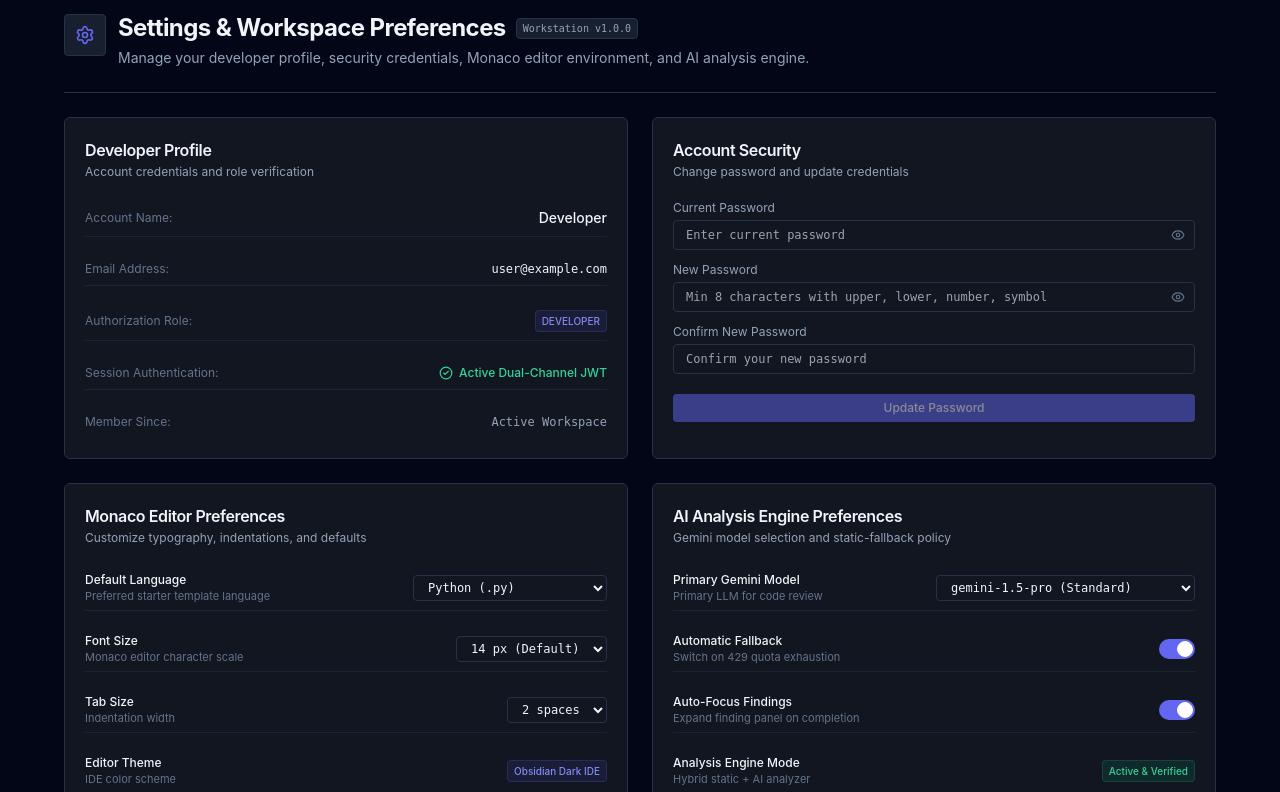
Scenario: Phase 7: Settings Page Functional Tests › submits password change and shows success banner
Expected: the heading "Account Security" is shown, [673,140,801,160]
Type "CurrentPass1!" into the password field with placeholder "Enter current password".
click(934, 235); type("CurrentPass1!")  # box [673,220,1195,250]
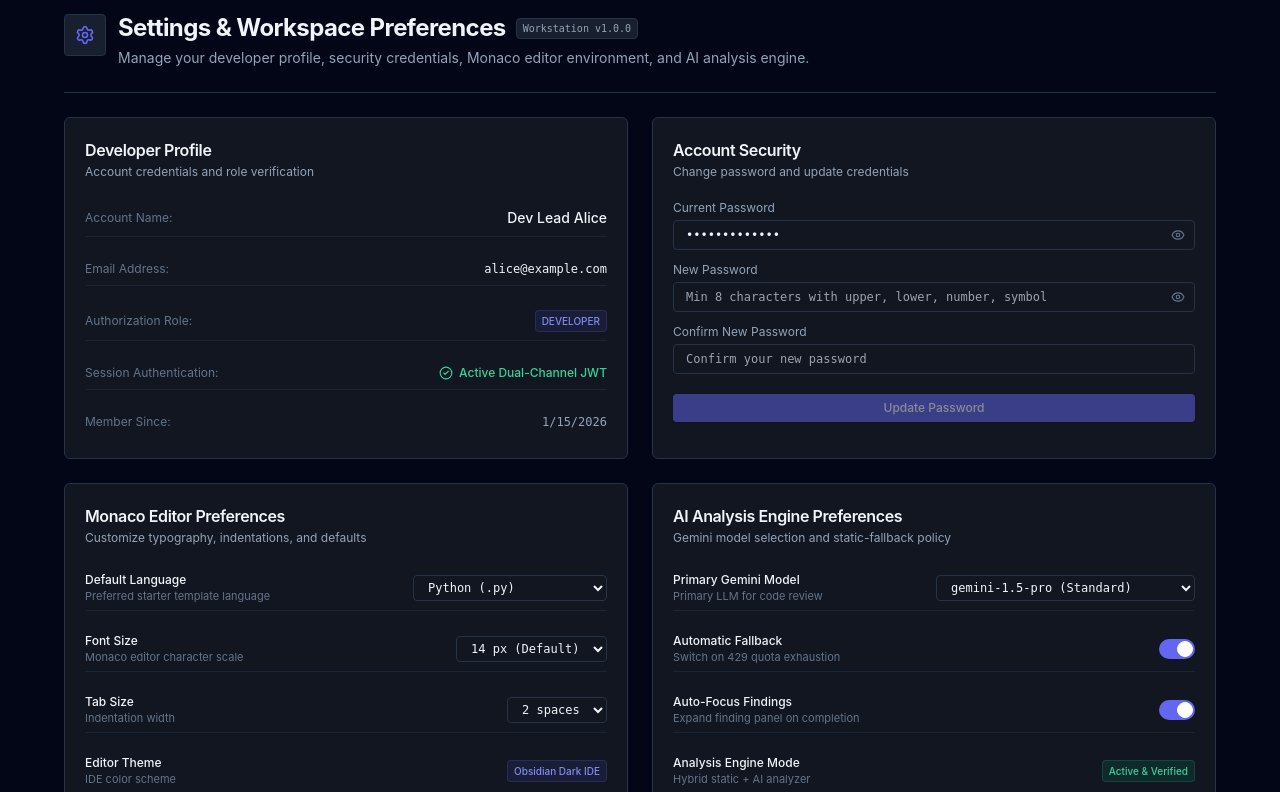
Type "BrandNewPass2@" into the password field with placeholder "Min 8 characters with upper, lower, number, symbol".
click(934, 297); type("BrandNewPass2@")  # box [673,282,1195,312]
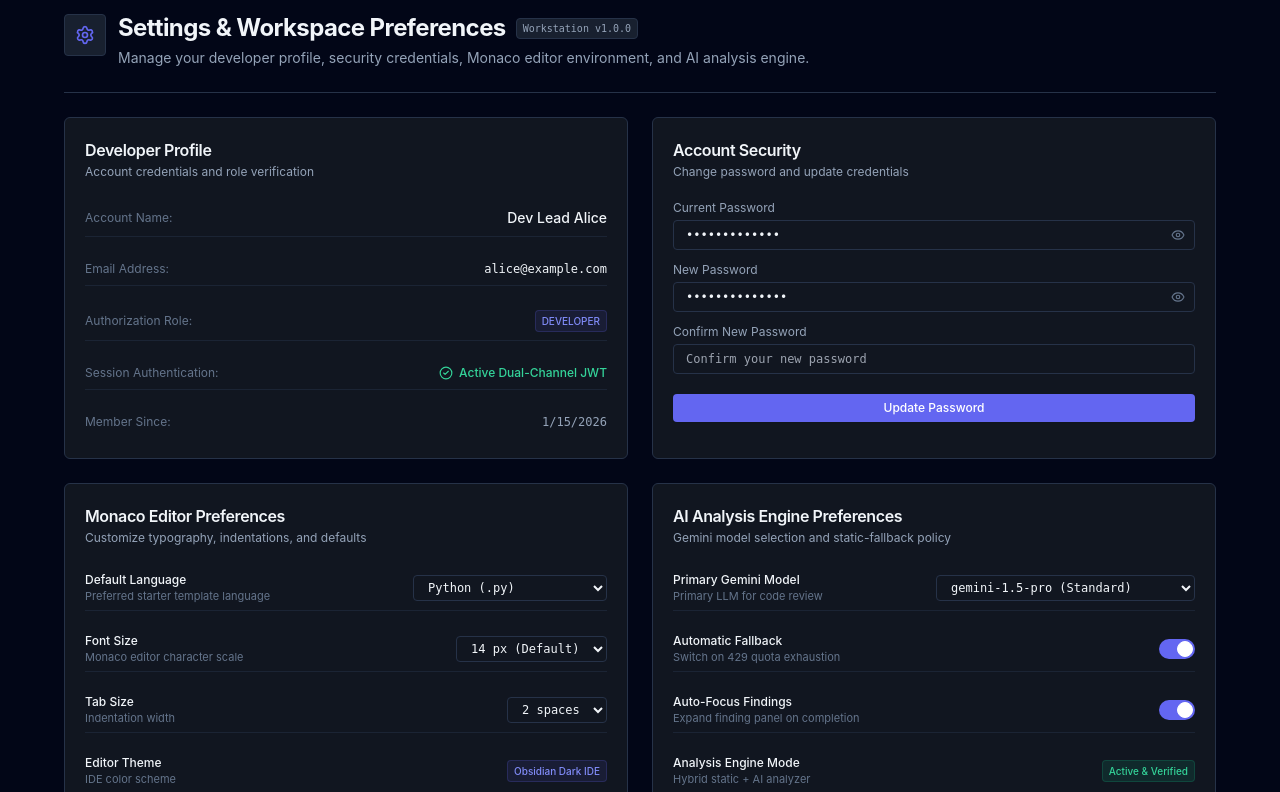
Type "BrandNewPass2@" into the password field with placeholder "Confirm your new password".
click(934, 359); type("BrandNewPass2@")  # box [673,344,1195,374]
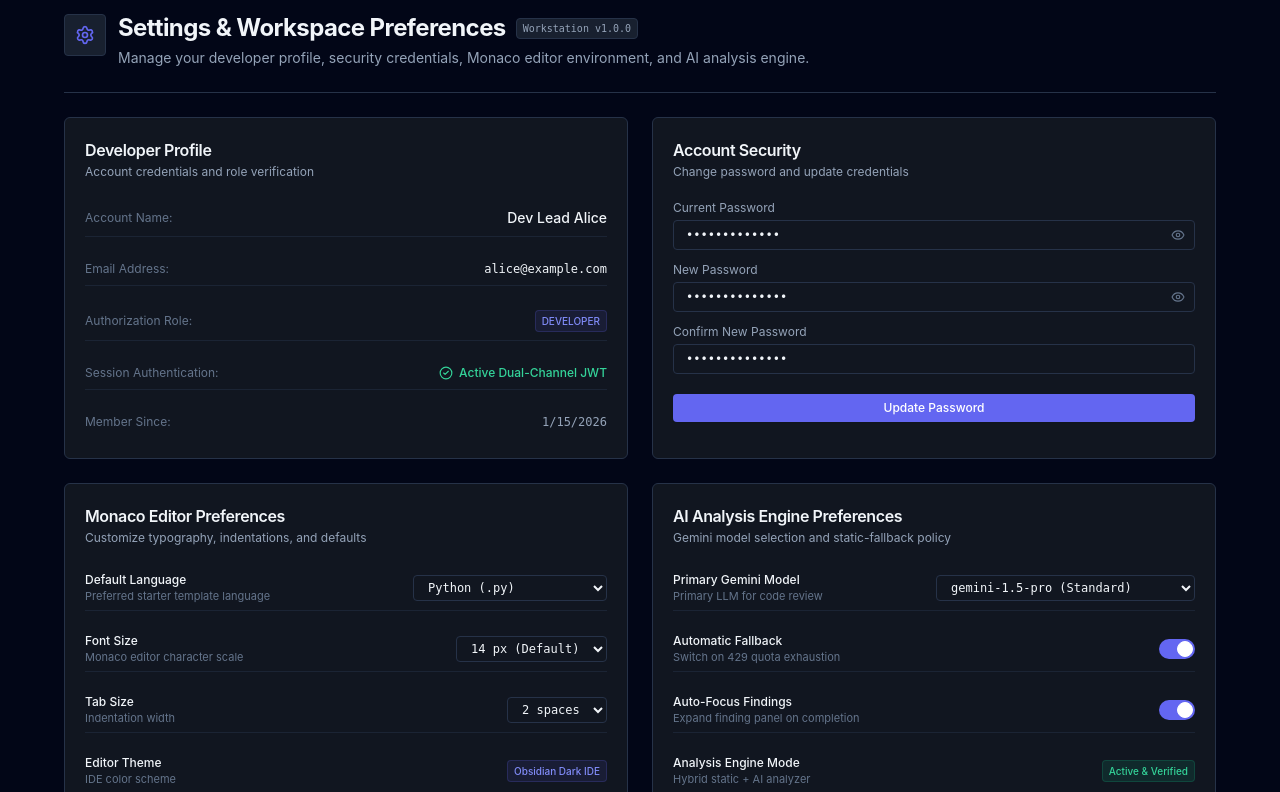
Click the button "Update Password".
click(934, 408)  # box [673,394,1195,422]
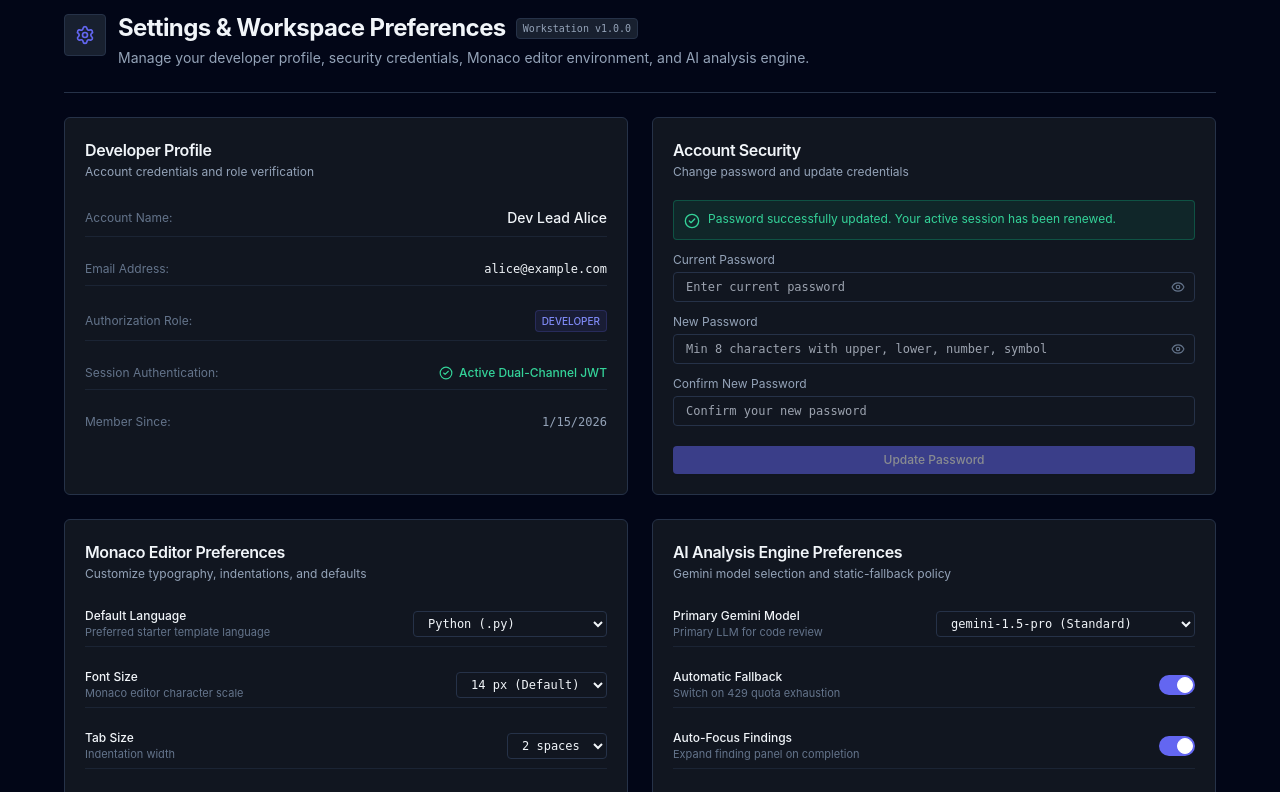
Now the text "Password successfully updated" is shown, box [708,211,1116,226]
